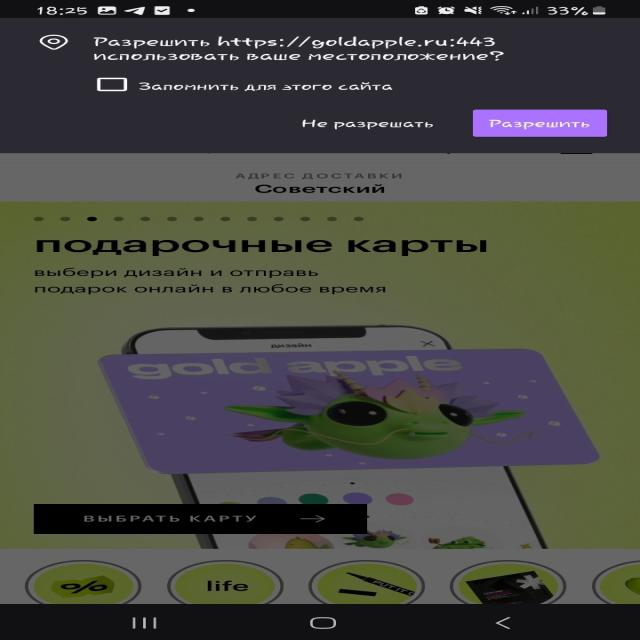button: (474, 109, 614, 139), (286, 111, 446, 137)
system: (4, 19, 640, 151)
